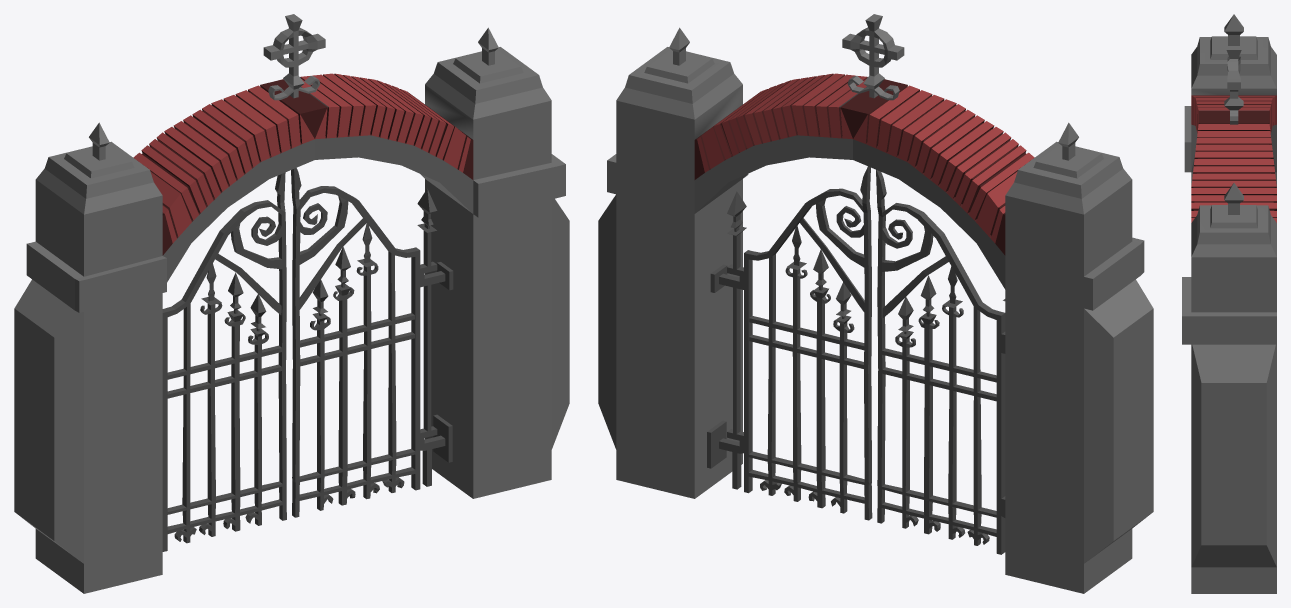
The model's file is SM_Graveyard_Fence_Gate.fbx.
The picture shows the model from 3 angles, left to right: view 1: azimuth 30°, elevation 25°; view 2: azimuth 150°, elevation 25°; view 3: azimuth 270°, elevation 25°; orthographic projection. The views are drawn at different scales.
Visible parts, largest first — view 1: Cube.001, Cube, Cube.002; view 2: Cube.001, Cube, Cube.002; view 3: Cube.001.
Boxes of the visible parts, x1,y1,x2,y2 form: Cube.001: (14, 14, 569, 593); Cube: (291, 168, 453, 517); Cube.002: (162, 172, 286, 551); Cube.001: (598, 14, 1153, 593); Cube: (707, 166, 872, 520); Cube.002: (876, 170, 1005, 554); Cube.001: (1182, 14, 1276, 593).
Bounding box in the file's own units: 355 × 329 × 63.48.
